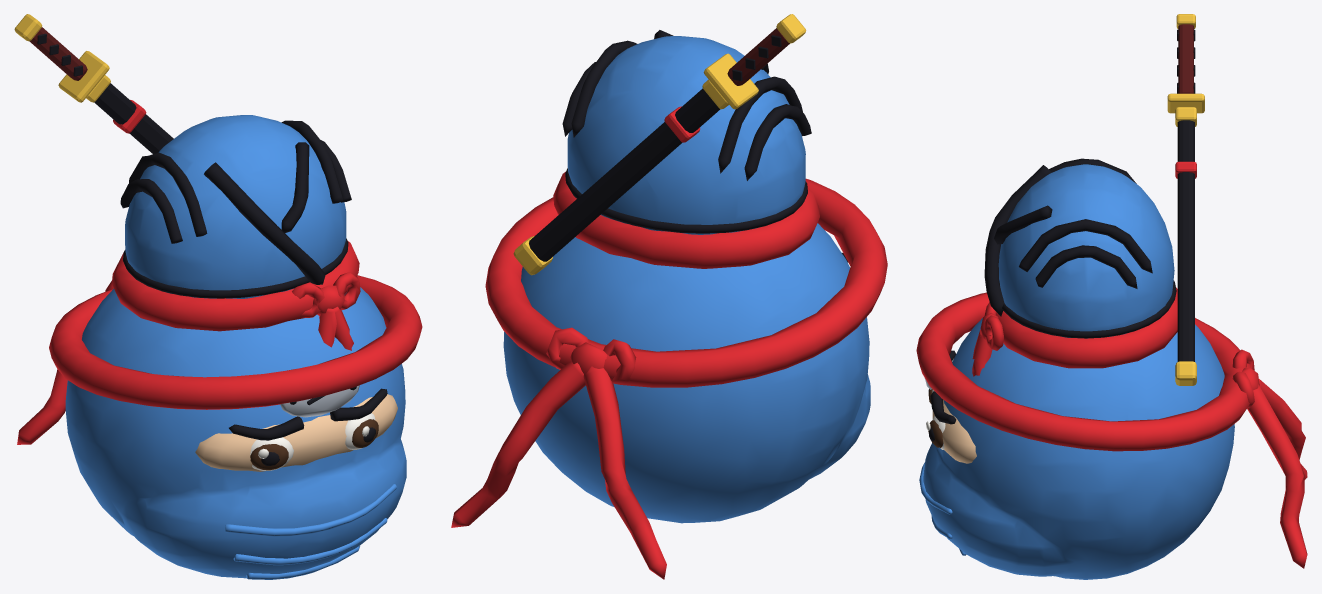
The model's file is ninja-low.glb.
3 views of the same model, side by side, from view 1: azimuth 30°, elevation 25°; view 2: azimuth 150°, elevation 25°; view 3: azimuth 270°, elevation 25° (orthographic). The views are drawn at different scales.
Visible parts, largest first — view 1: ninja_Head, ninja_Body; view 2: ninja_Head, ninja_Body; view 3: ninja_Head, ninja_Body.
Boxes of the visible parts, <box> form: ninja_Head: <box>17,275,422,579</box>; ninja_Body: <box>14,14,360,350</box>; ninja_Head: <box>451,178,887,579</box>; ninja_Body: <box>513,14,819,275</box>; ninja_Head: <box>916,292,1307,579</box>; ninja_Body: <box>972,14,1204,385</box>.
Bounding box in the file's own units: 0.238 × 0.3727 × 0.2727.
